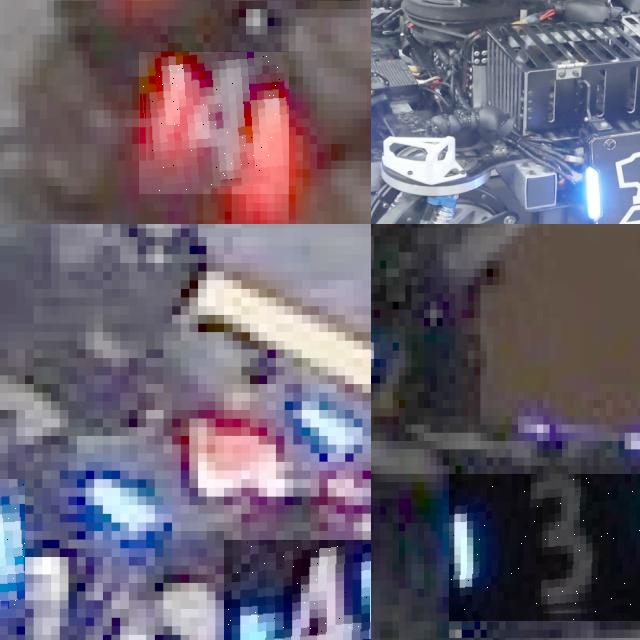B3: (449, 473, 640, 621)
B4: (224, 539, 371, 640), (0, 479, 25, 617)
Bs: (586, 144, 640, 224)
R4: (139, 52, 289, 194)
